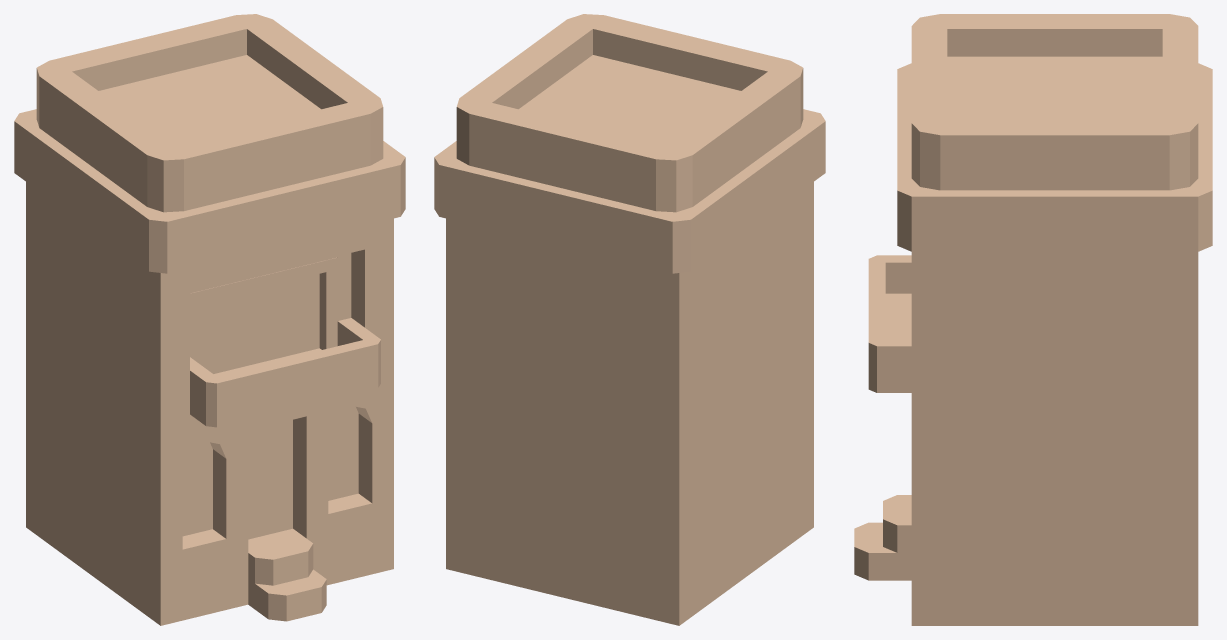
Rendered from building-sample-tower-b.obj.
3 views of the same model, side by side, from view 1: azimuth 30°, elevation 25°; view 2: azimuth 150°, elevation 25°; view 3: azimuth 270°, elevation 25° (orthographic). The views are drawn at different scales.
Size of the model in its own units: 1.1 by 1.89 by 1.25.
